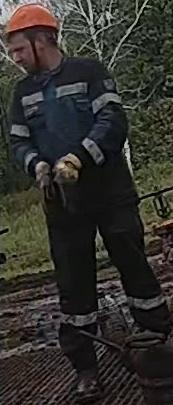gloves: (51, 152, 82, 185), (33, 160, 56, 200)
helmet: (2, 2, 59, 40)
vest: (10, 56, 135, 212)
